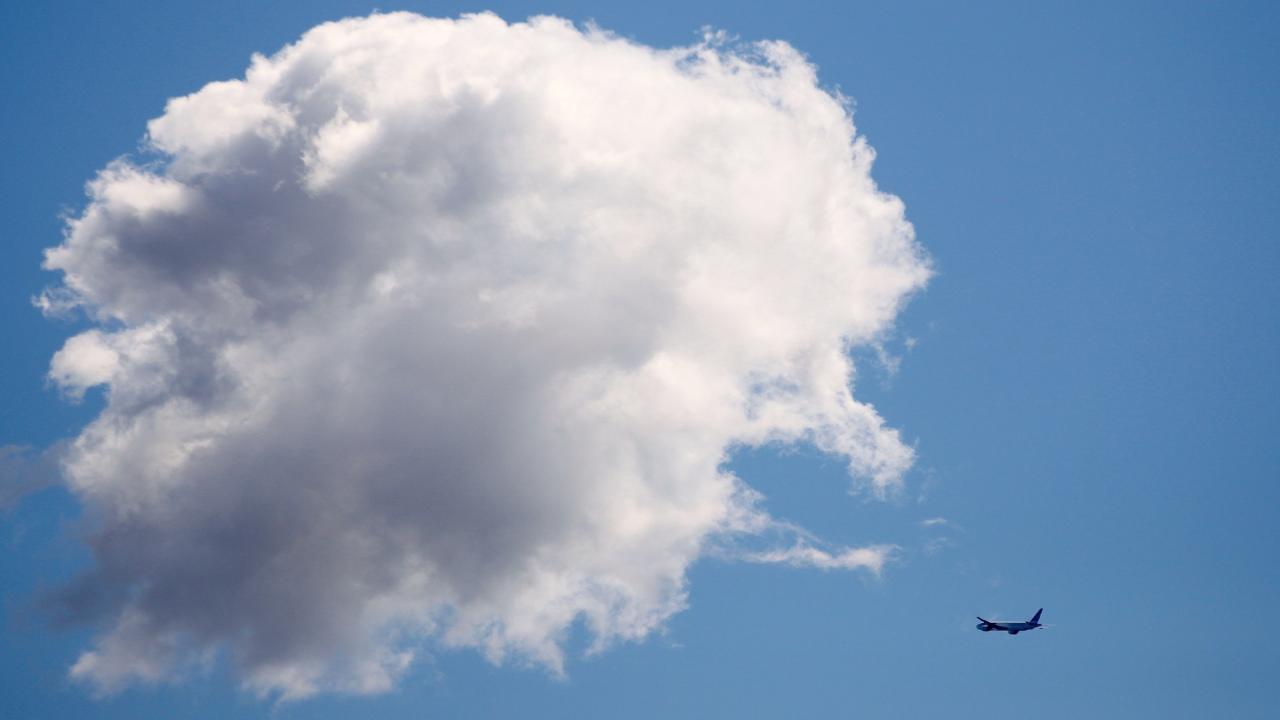Airplane: (963, 602, 1058, 644)
